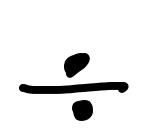div: (19, 53, 128, 120)
